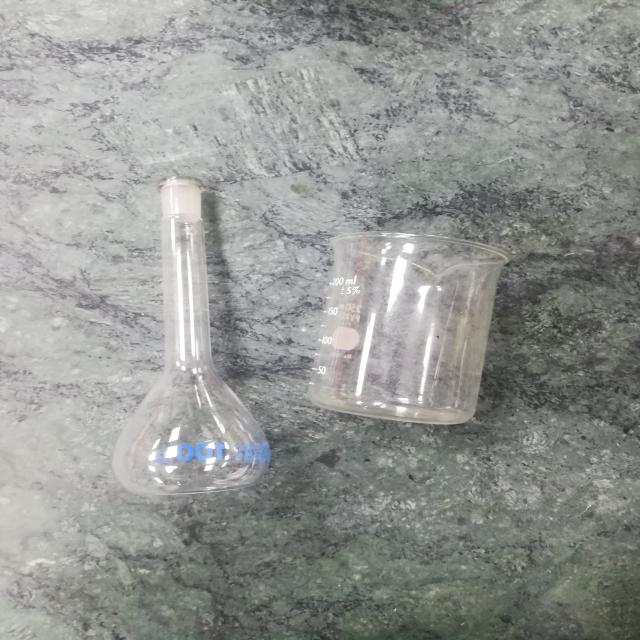Beaker: (304, 220, 528, 443)
Volumetric_Flask: (89, 157, 288, 519)
